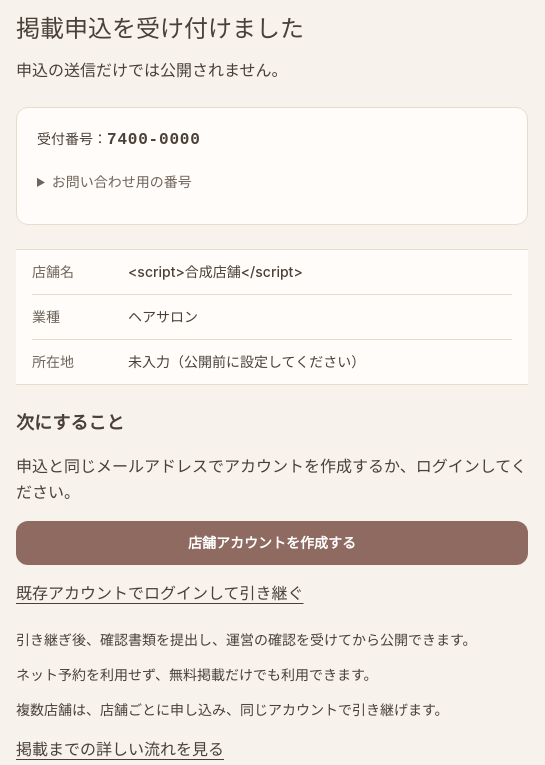
confirmed receipt is checked server-side before display and carries only a mode marker through auth
Expected: the heading "掲載申込を受け付けました" is shown, [16,16,304,42]
Expected: the text "<script>合成店舗</script>" is shown, [128,263,303,280]
Click the heading "お問い合わせ用の番号": [122, 182] box [52,173,192,190]
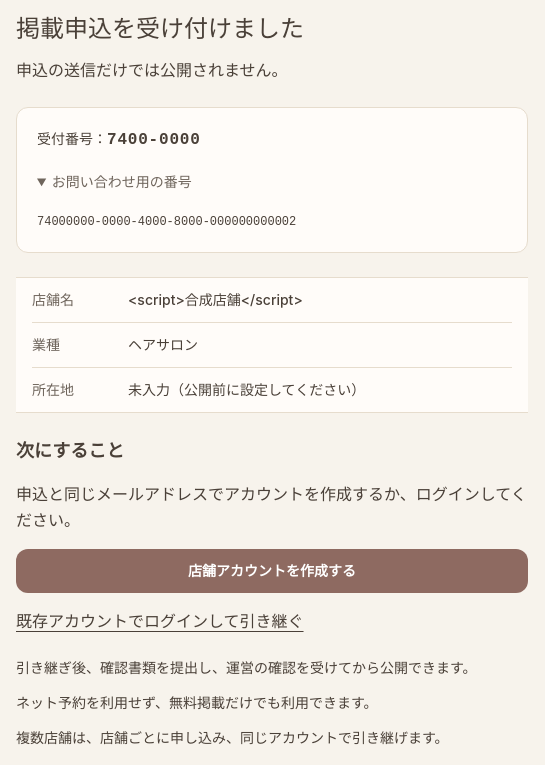
Expected: the text "申込の送信だけでは公開されません。" is shown, [16,60,288,80]
Expected: the text "74000000-0000-4000-8000-000000000002" is shown, [37,215,296,229]
